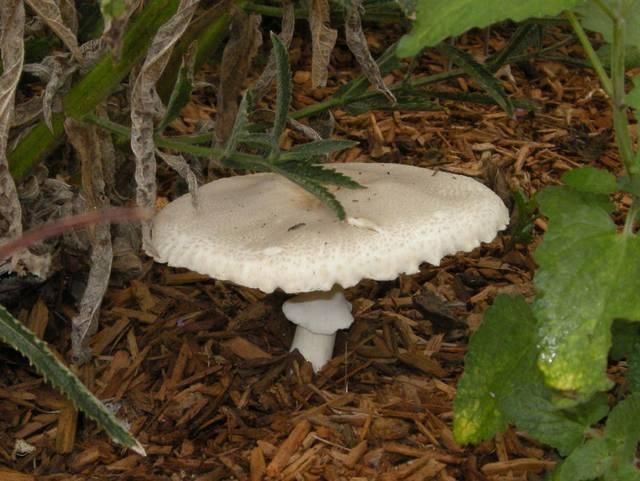poisonous_mushroom: (145, 159, 511, 374)
